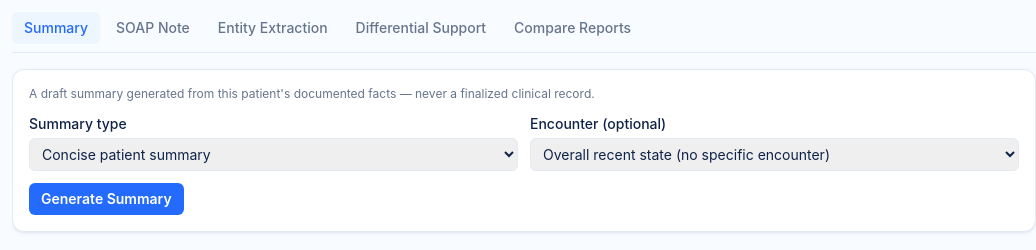
Scenario: Clinical Modules — patient tab › shows an honest empty state for report comparison with fewer than two reports
Click the button "Compare Reports" at (573, 28), box [502,12,643,44]
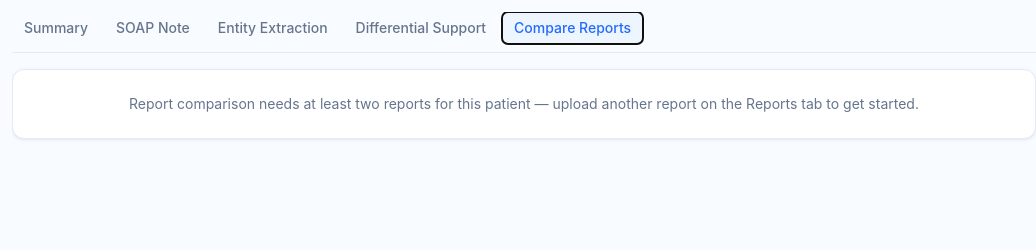
Expected: the text "needs at least two reports" is shown, [129,95,919,112]
